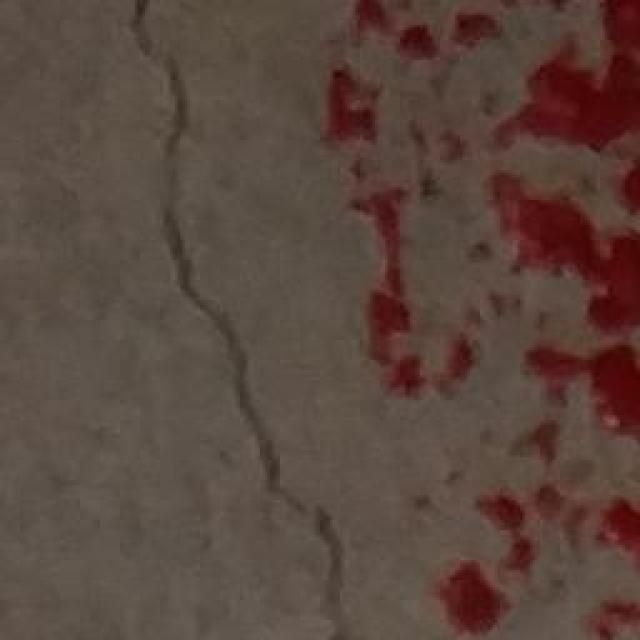Longitudinal: (95, 0, 305, 525)
Rippled: (328, 0, 640, 640)
